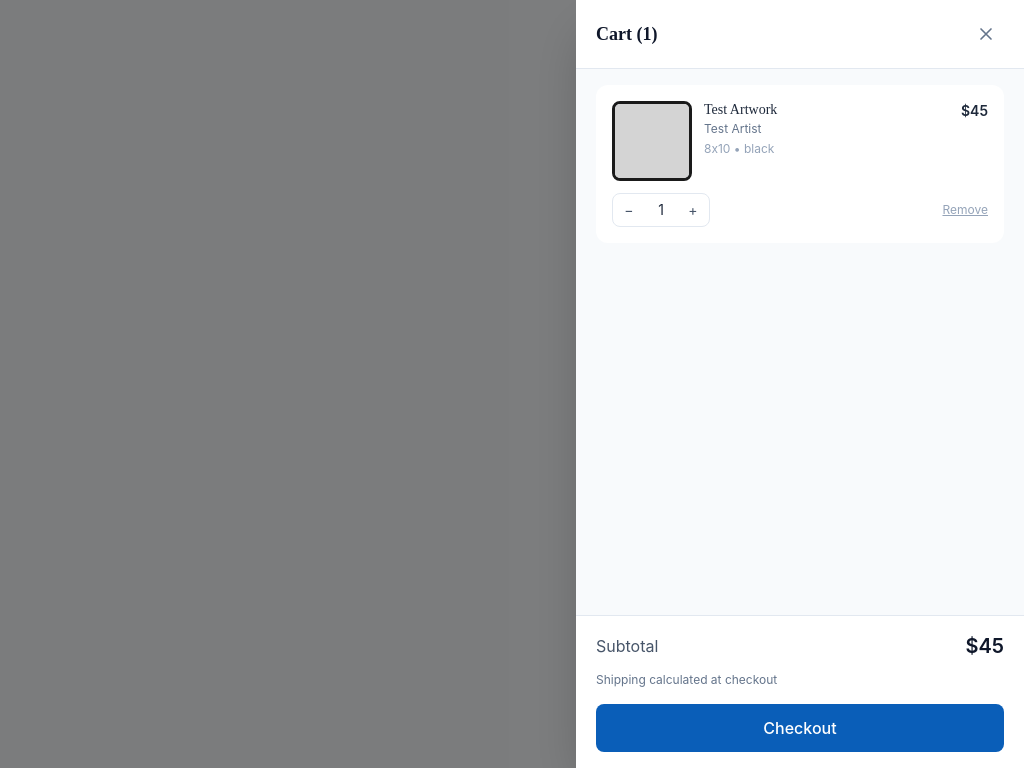
Test: Cart › remove functionality › should remove item on click
Click the button "Remove" at (965, 210), box [942,202,988,218]
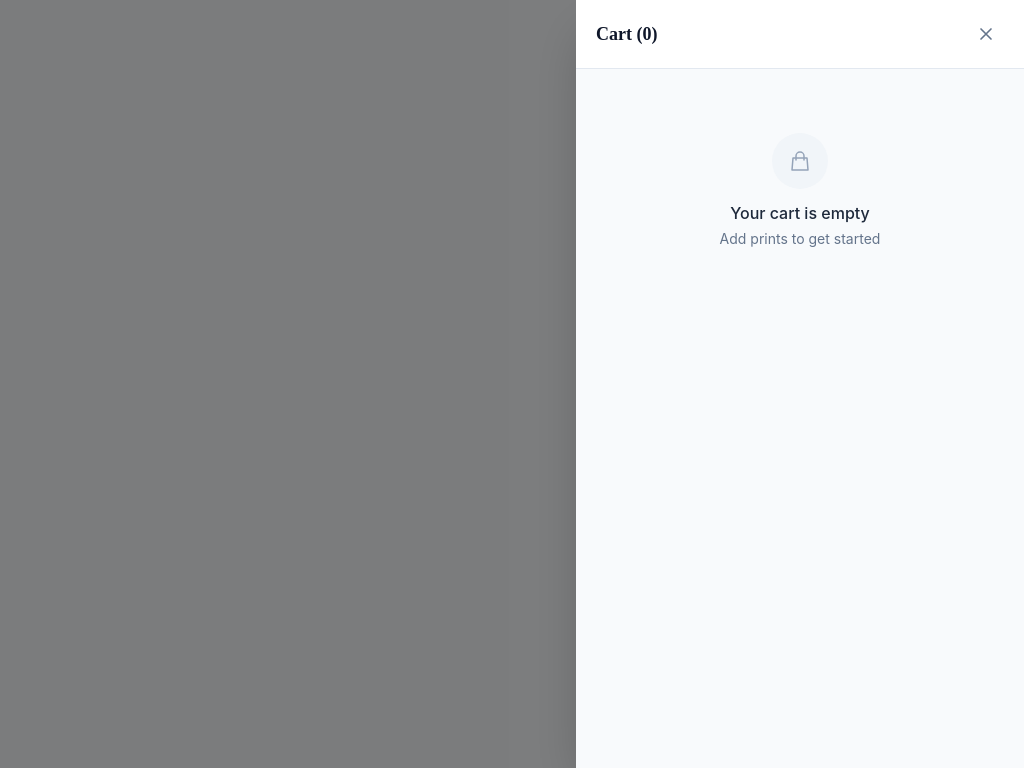
expect the text "Your cart is empty" is shown: met, box [730,203,870,223]
